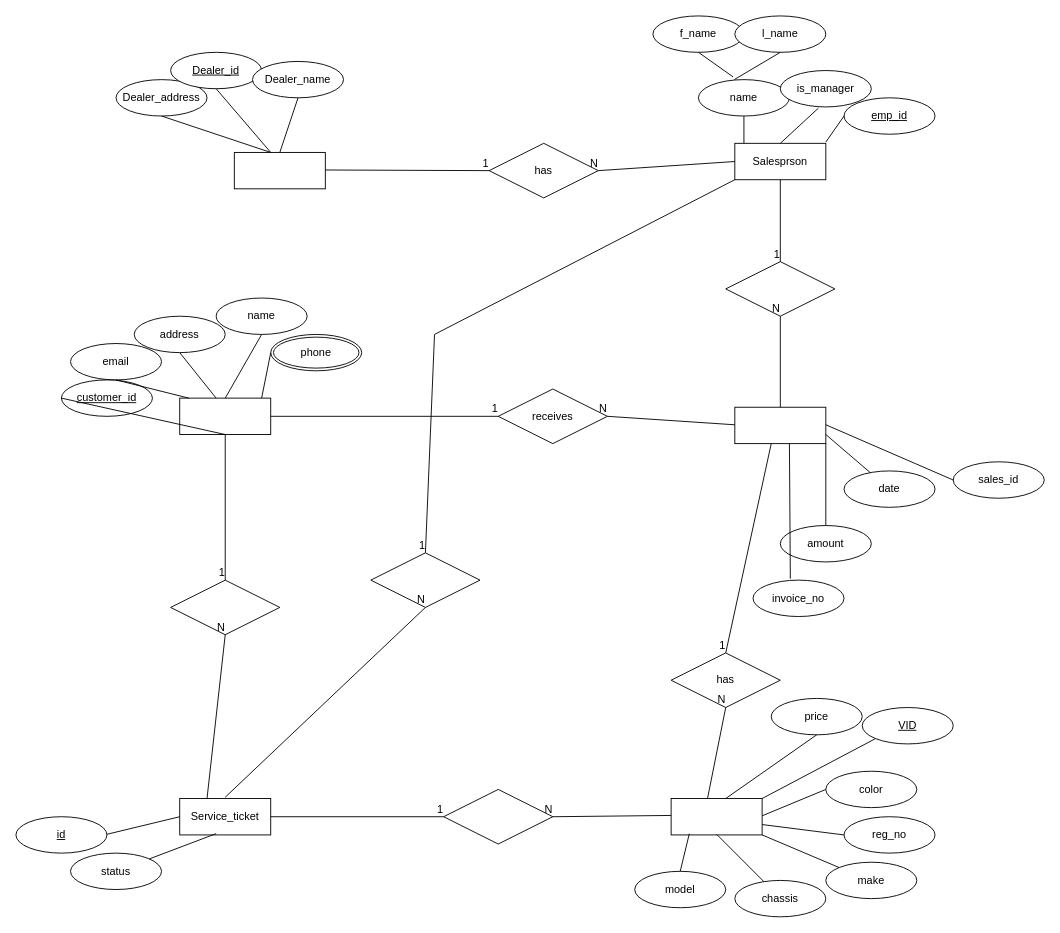
The diagram is 1060 pixels wide and 933 high, and some of its shapes have lost their labels. Each missing label, with the centre of its shape:
"bike_details" goes at point (716, 816).
"Customer" goes at point (225, 416).
"Dealer" goes at point (279, 170).
"generates" goes at point (780, 288).
"invoice" goes at point (780, 425).
"manages" goes at point (425, 579).
"raises" goes at point (225, 607).
"Relationship" goes at point (498, 816).
